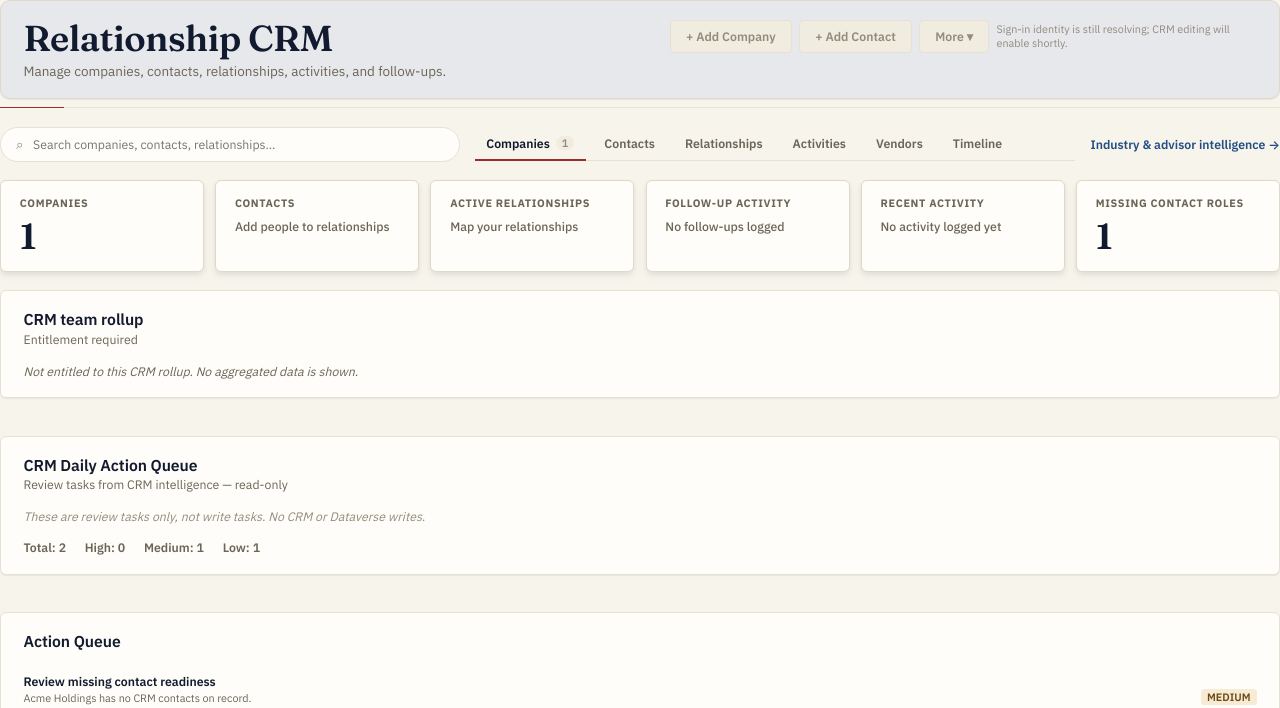
CRM-ELITE-1 Phase 4 — banker daily action queue (flag on) › is not shown on other views (mounted only at the top of Companies)
Click the tab "Contacts" at coordinates (630, 144), box [593,128,666,160]
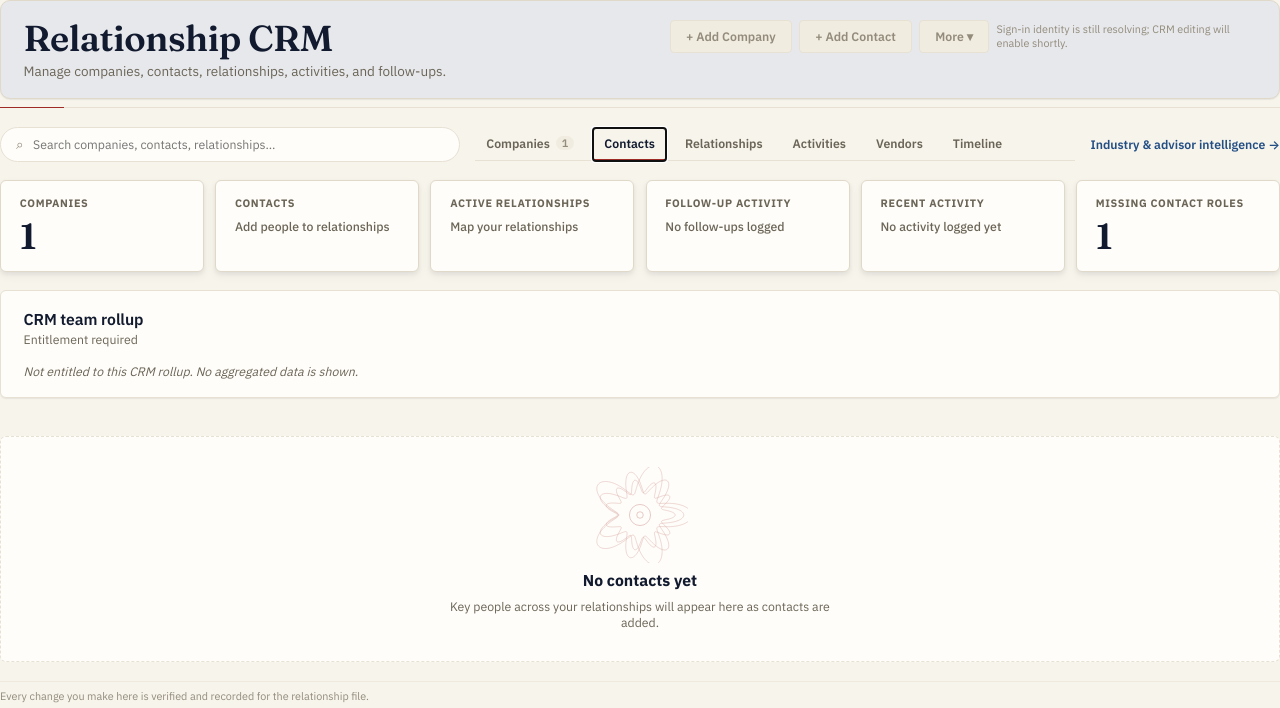
Expected: the heading "CRM Daily Action Queue" is gone
